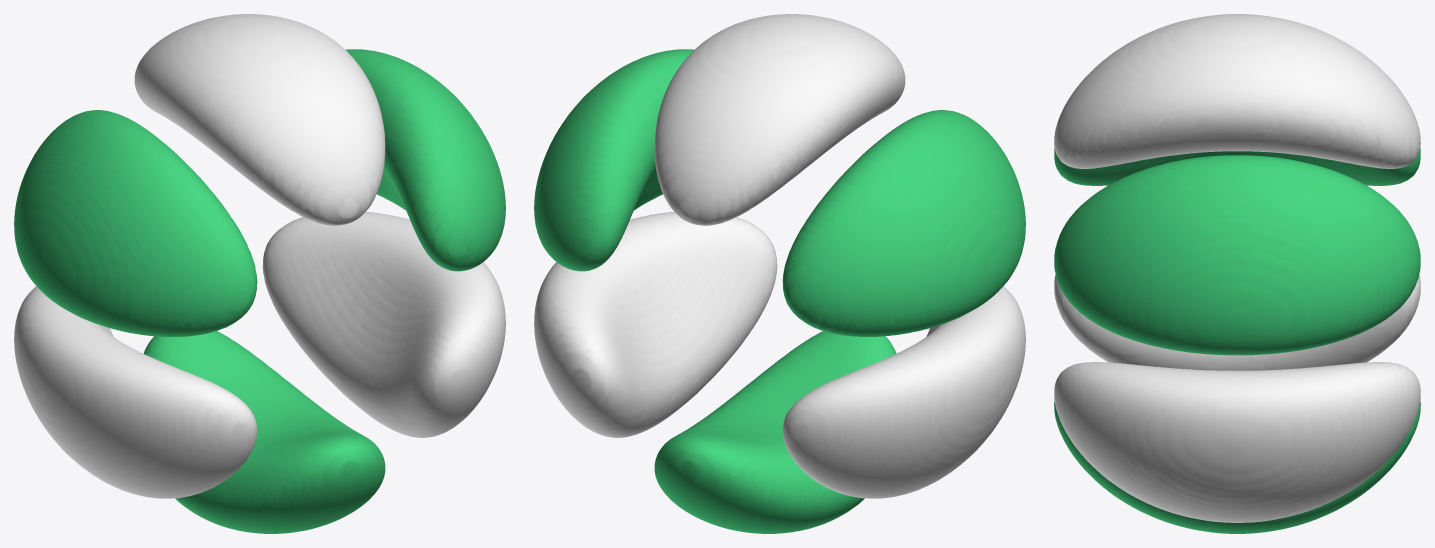
The picture shows the model from 3 angles, left to right: view 1: azimuth 30°, elevation 25°; view 2: azimuth 150°, elevation 25°; view 3: azimuth 270°, elevation 25°; orthographic projection.
Parts seen in each view (by area): view 1: f_fy_3x2-y2; view 2: f_fy_3x2-y2; view 3: f_fy_3x2-y2.
Part boxes in pixels (bbox=[...]): f_fy_3x2-y2: bbox=[14, 14, 505, 533]; f_fy_3x2-y2: bbox=[534, 14, 1025, 533]; f_fy_3x2-y2: bbox=[1054, 14, 1420, 533].
Size of the model in its own units: 1.89 by 2 by 1.36.
